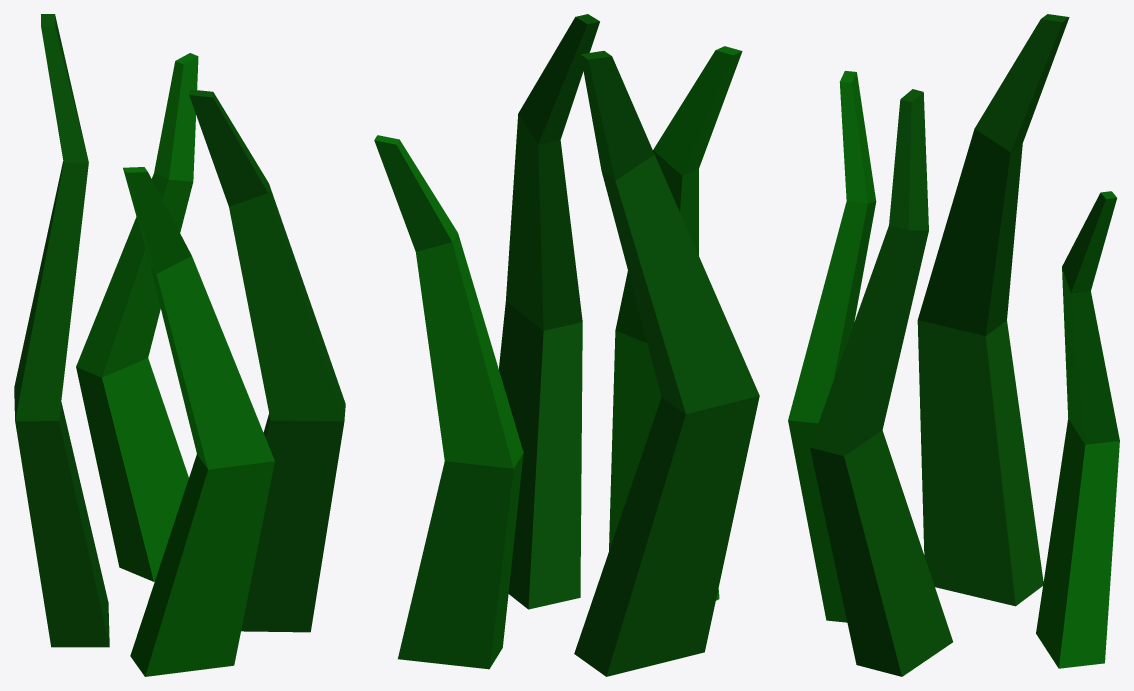
File: Grass.fbx
3 renders of one model, left to right at view 1: azimuth 30°, elevation 25°; view 2: azimuth 150°, elevation 25°; view 3: azimuth 270°, elevation 25°, orthographic. The views are drawn at different scales.
Visible parts, largest first — view 1: Cube.003; view 2: Cube.003; view 3: Cube.003.
Boxes of the visible parts, left/top/right/bottom form: Cube.003: left=14, top=14, right=345, bottom=676; Cube.003: left=374, top=14, right=759, bottom=676; Cube.003: left=788, top=14, right=1119, bottom=676.
Size of the model in its own units: 55.06 by 108 by 56.86.
